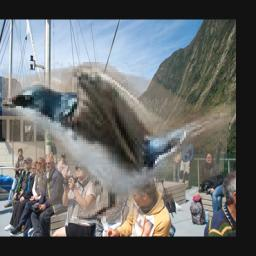Swallow: (2, 62, 236, 223)
